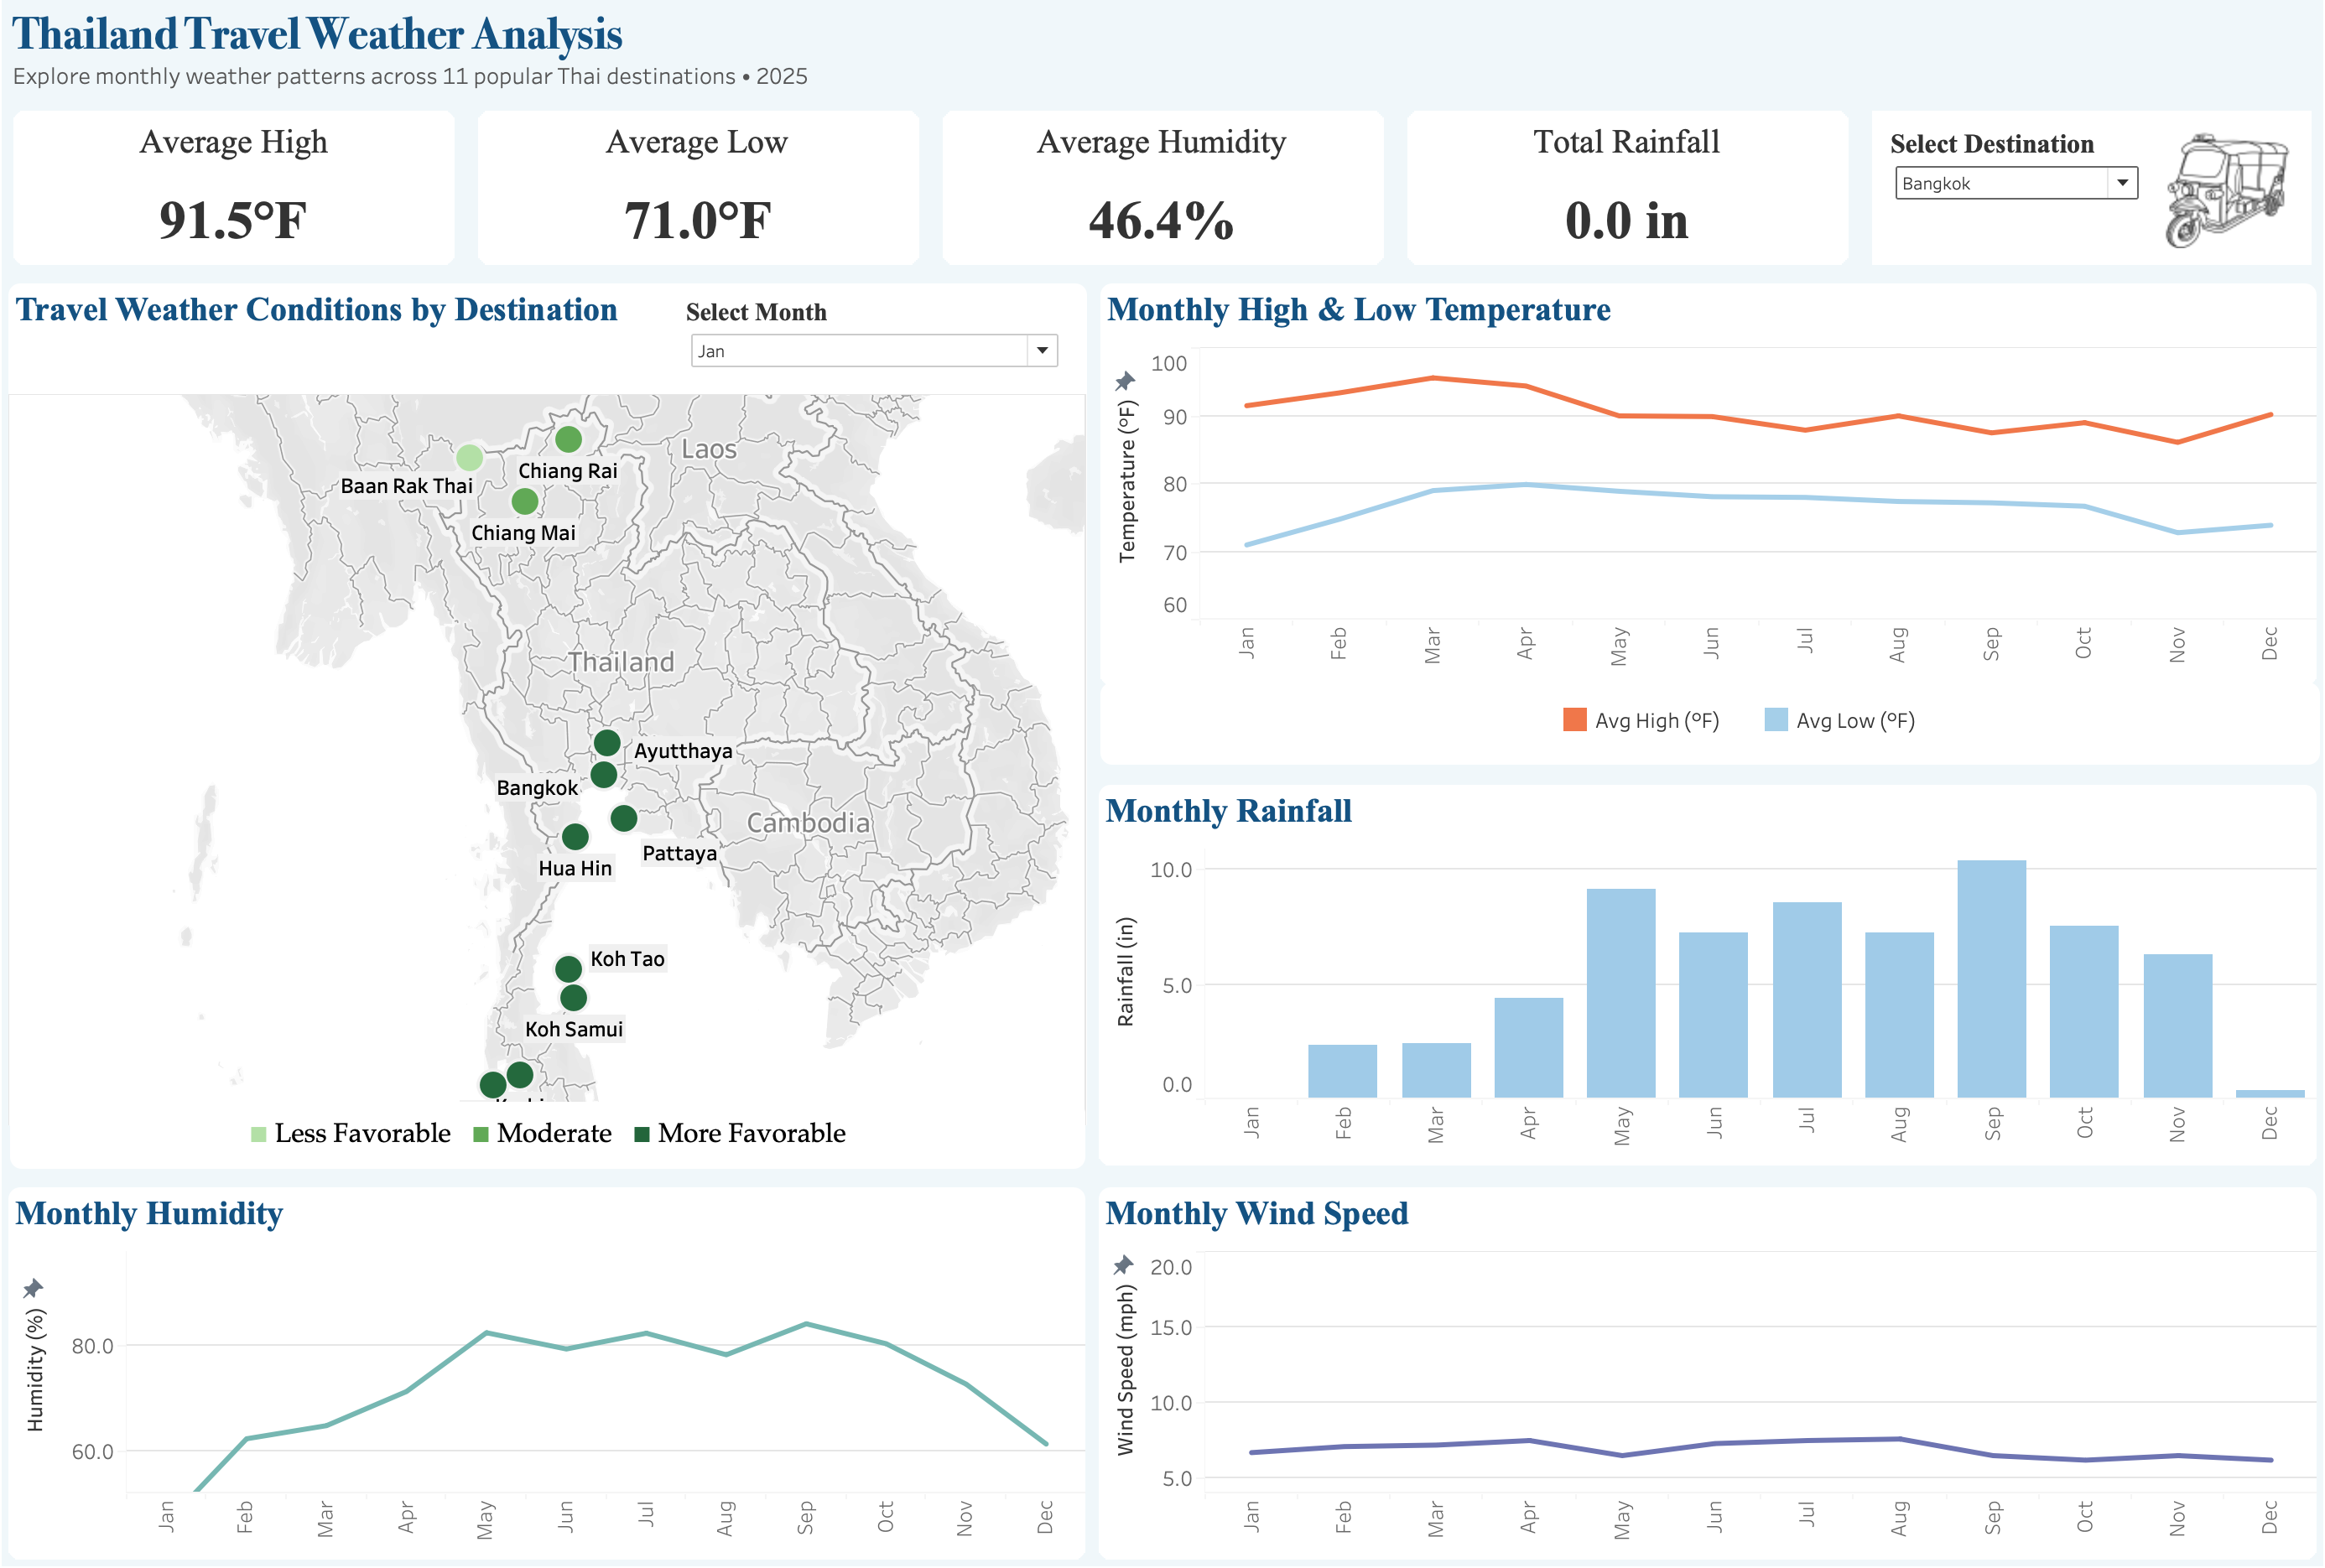

The dashboard page shown, as its layout file describes it:
{"tool":"tableau","page":{"name":"Thailand Weather Dashboard","canvas":[1400,950],"ordinal":0},"visuals":[{"type":"title","box":[8,8,1384,59]},{"type":"worksheet","title":"KPI 1 - Average High","mark":"Automatic","box":[8,67,277,106]},{"type":"worksheet","title":"KPI 2 - Average Low","mark":"Automatic","box":[285,67,277,106]},{"type":"worksheet","title":"KPI 4 - Average Humidity","mark":"Automatic","box":[562,67,277,106]},{"type":"worksheet","title":"KPI 3 - Total Rainfall","mark":"Automatic","box":[839,67,277,106]},{"type":"blank","box":[1123,74,262,92]},{"type":"filter","title":"KPI 1 - Average High","param":"[federated.0t1x8dc1n5sizx1ddhv5h0ipflwp].[none:destination:nk]","box":[1134,85,151,58]},{"type":"image","param":"/Users/arleeantillon/Downloads/tuktuk.png","box":[1289,87,93,75]},{"type":"worksheet","title":"Travel Weather Map","mark":"Automatic","box":[8,173,651,514]},{"type":"worksheet","title":"Monthly Temperature","mark":"Line","cols":["month"],"box":[658.7,173,733.3,248]},{"type":"filter","title":"KPI 1 - Average High","param":"[federated.0t1x8dc1n5sizx1ddhv5h0ipflwp].[none:month:nk]","box":[416,186,225,54]},{"type":"text","box":[663,415,727,49]},{"type":"blank","box":[658.7,421,733.3,194]},{"type":"legend","title":"Monthly Temperature","param":"[federated.0t1x8dc1n5sizx1ddhv5h0ipflwp].[:Measure Names]","box":[936,427,253,31]},{"type":"worksheet","title":"Monthly Rainfall","mark":"Bar","rows":["total_rainfall_in"],"cols":["month"],"box":[662,476,726,227]},{"type":"text","box":[13,665,641,40]},{"type":"worksheet","title":"Monthly Humidity","mark":"Line","rows":["avg_humidity_pct"],"cols":["month"],"box":[8,712,650,230]},{"type":"worksheet","title":"Monthly Wind Speed","mark":"Line","rows":["avg_max_wind_speed_mph"],"cols":["month"],"box":[658,712,734,230]}]}

Visuals, with their boxes in screenshot pixels (x1, y1, x2, y2), scaled from the page's 1400x950 canvas onto the 2325x1568 screenshot:
title: BBox(13, 13, 2312, 111)
"KPI 1 - Average High" worksheet: BBox(13, 111, 473, 286)
"KPI 2 - Average Low" worksheet: BBox(473, 111, 934, 286)
"KPI 4 - Average Humidity" worksheet: BBox(934, 111, 1393, 286)
"KPI 3 - Total Rainfall" worksheet: BBox(1393, 111, 1854, 286)
blank: BBox(1865, 122, 2300, 274)
"KPI 1 - Average High" filter: BBox(1883, 140, 2134, 236)
image: BBox(2140, 143, 2295, 267)
"Travel Weather Map" worksheet: BBox(13, 286, 1095, 1134)
"Monthly Temperature" worksheet (Line marks): BBox(1094, 286, 2312, 695)
"KPI 1 - Average High" filter: BBox(691, 307, 1064, 396)
text: BBox(1101, 685, 2308, 766)
blank: BBox(1094, 695, 2312, 1015)
"Monthly Temperature" legend: BBox(1554, 705, 1974, 756)
"Monthly Rainfall" worksheet (Bar marks): BBox(1100, 786, 2305, 1160)
text: BBox(22, 1098, 1086, 1164)
"Monthly Humidity" worksheet (Line marks): BBox(13, 1176, 1093, 1555)
"Monthly Wind Speed" worksheet (Line marks): BBox(1093, 1176, 2312, 1555)
